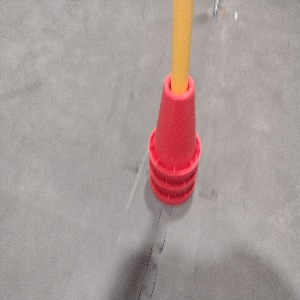Red_3: (144, 70, 201, 205)
